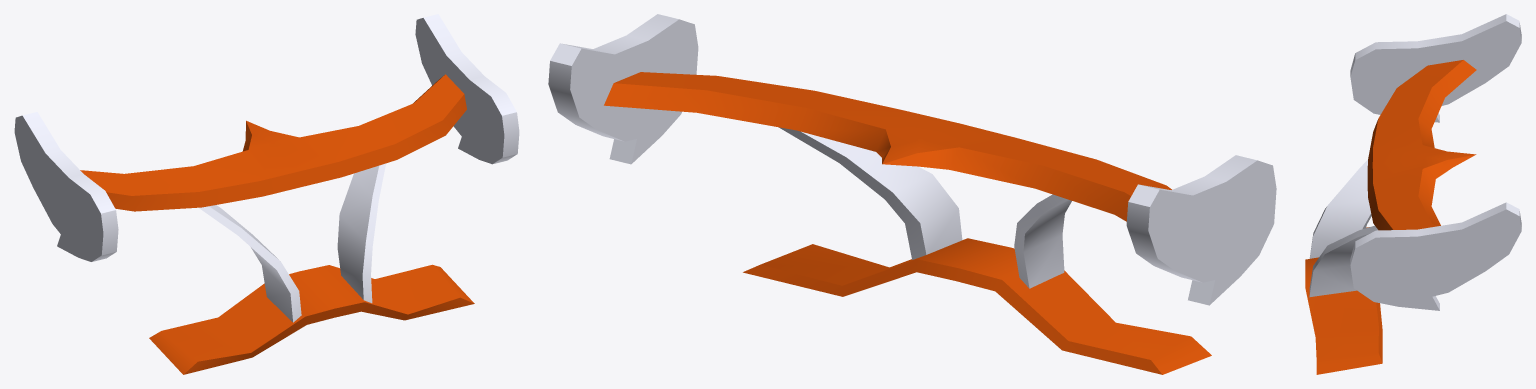
The model's file is LuxSpoiler02R03.gltf.
3 views of the same model, side by side, from view 1: azimuth 30°, elevation 25°; view 2: azimuth 150°, elevation 25°; view 3: azimuth 270°, elevation 25° (orthographic). The views are drawn at different scales.
Parts seen in each view (by area): view 1: LuxSpoiler02R03; view 2: LuxSpoiler02R03; view 3: LuxSpoiler02R03.
Part boxes in pixels (x1,y1,x2,y2): LuxSpoiler02R03: [14, 14, 519, 374]; LuxSpoiler02R03: [548, 14, 1276, 374]; LuxSpoiler02R03: [1305, 14, 1521, 374].
Size of the model in its own units: 0.1732 by 0.0806 by 0.0811.
